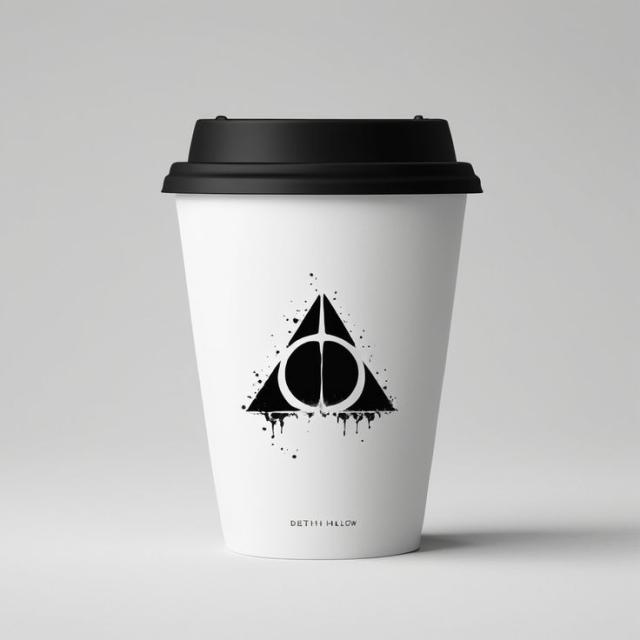paper cup: (161, 114, 483, 559)
